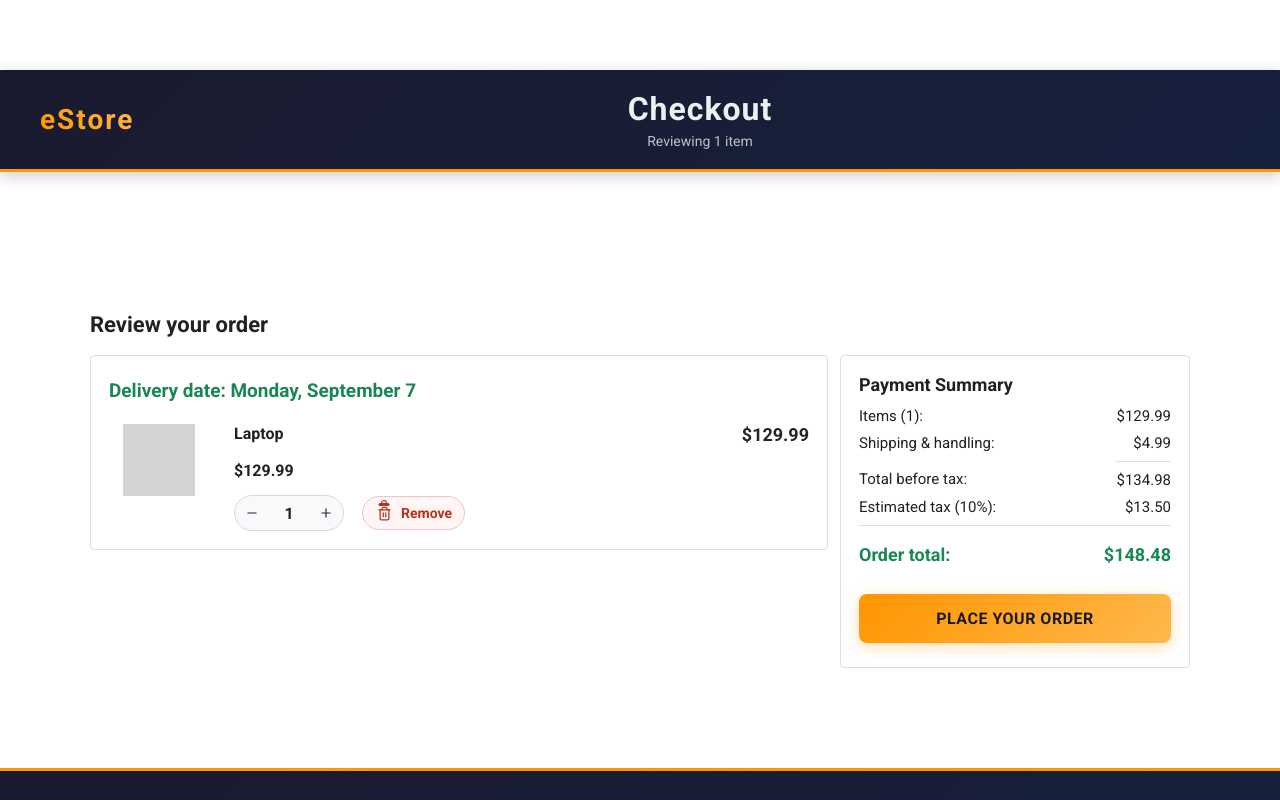
Pages integration tests › CheckoutPage redirects to Stripe page before payment
The width and height of the screenshot is (1280, 800).
What coordinates should you click on to do the following:
click the button "Place Your Order"
I would click on:
 (1015, 618)
Its box is [859, 594, 1171, 643].
Wait 900 ms
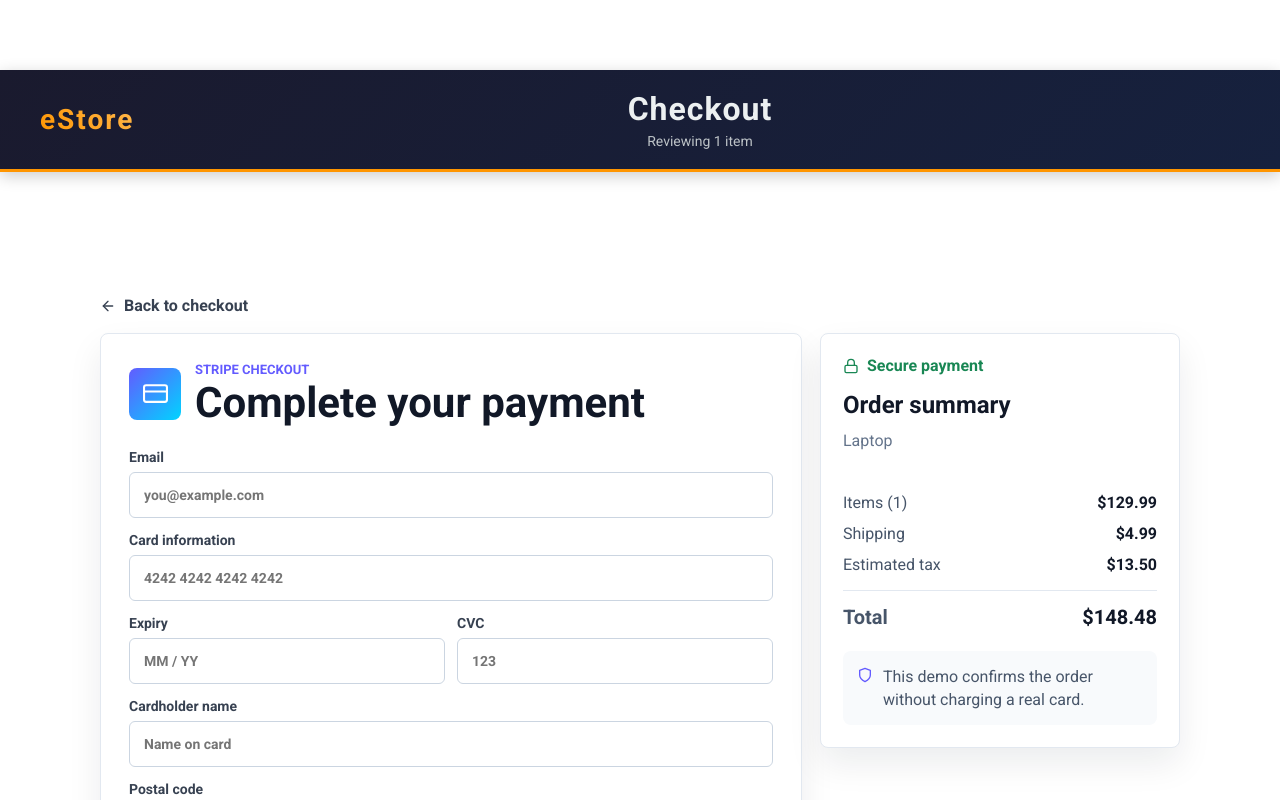
Check: the heading "Complete your payment" is shown, box [195, 381, 645, 425]
